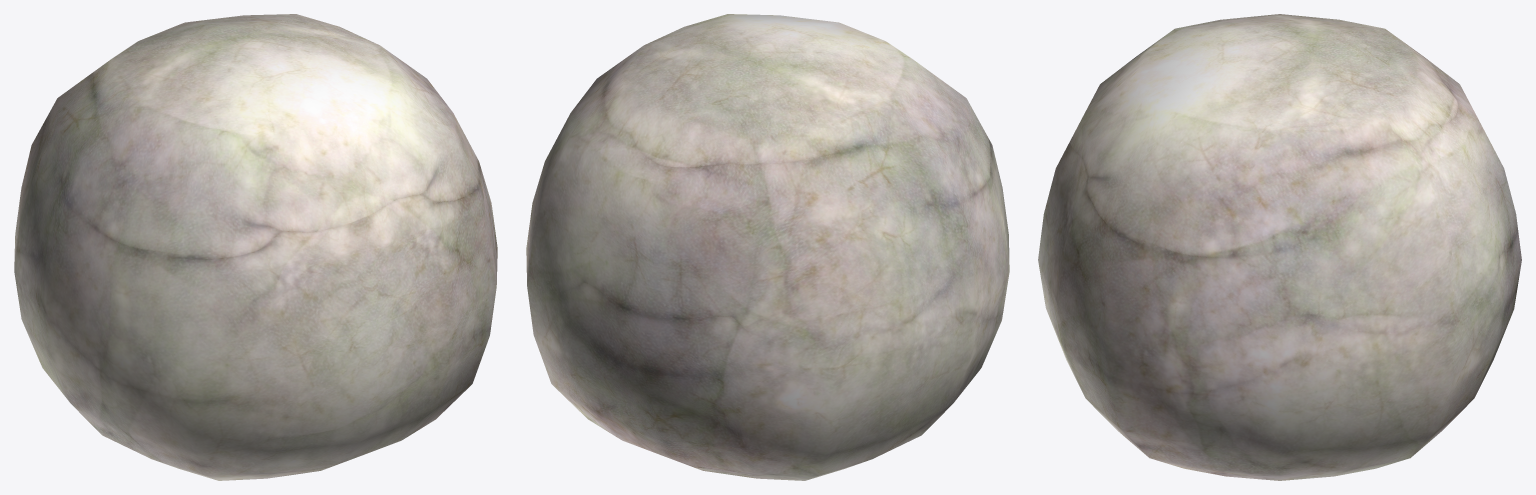
The model's file is SM_RostrokarckEgg.fbx.
3 views of the same model, side by side, from view 1: azimuth 30°, elevation 25°; view 2: azimuth 150°, elevation 25°; view 3: azimuth 270°, elevation 25° (orthographic).
Parts seen in each view (by area): view 1: SM_RostrokarckEgg; view 2: SM_RostrokarckEgg; view 3: SM_RostrokarckEgg.
Part boxes in pixels (box(x1,y1,x2,y2)): SM_RostrokarckEgg: box(14, 14, 497, 480); SM_RostrokarckEgg: box(526, 14, 1009, 480); SM_RostrokarckEgg: box(1038, 14, 1521, 480).
Size of the model in its own units: 88.54 by 80.2 by 87.88.
